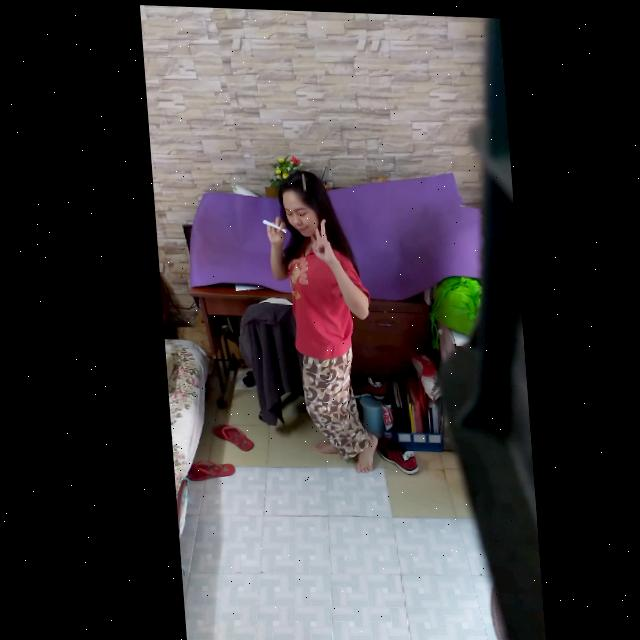cigarette: (260, 218, 283, 231)
